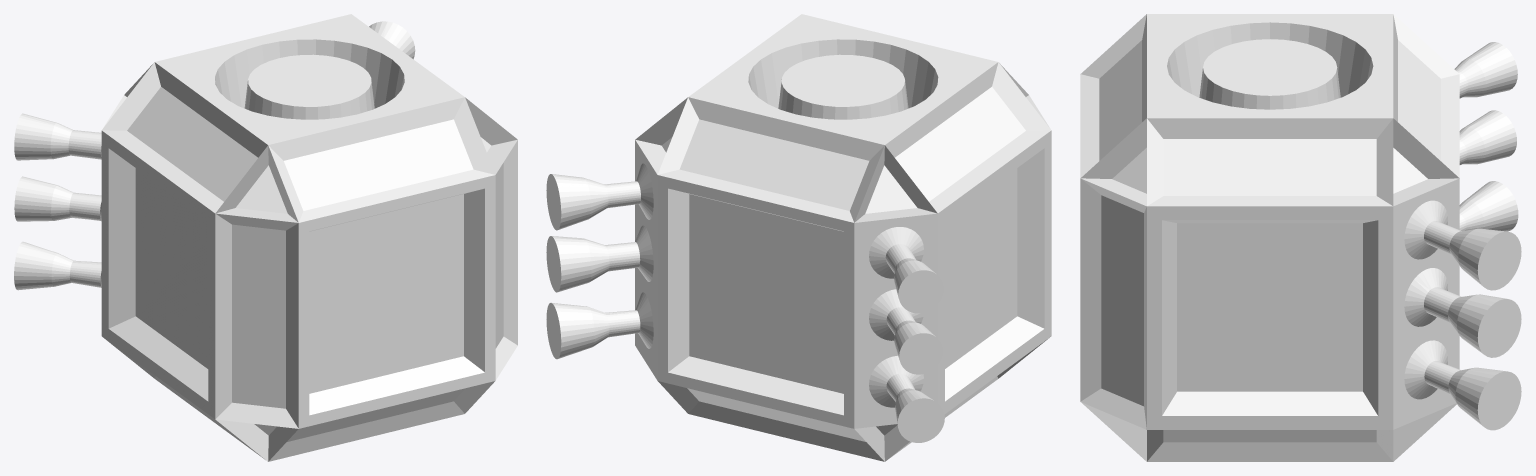
Rendered from Engine.obj.
3 renders of one model, left to right at view 1: azimuth 30°, elevation 25°; view 2: azimuth 150°, elevation 25°; view 3: azimuth 270°, elevation 25°, orthographic. The views are drawn at different scales.
Visible parts, largest first — view 1: Engine_立方体.001; view 2: Engine_立方体.001; view 3: Engine_立方体.001.
Boxes of the visible parts, x1,y1,x2,y2 form: Engine_立方体.001: [14, 14, 517, 461]; Engine_立方体.001: [546, 14, 1051, 461]; Engine_立方体.001: [1080, 14, 1521, 461].
Bounding box in the file's own units: 2.31 × 1.75 × 2.04.
Materials: 1 (1 with a texture image).
